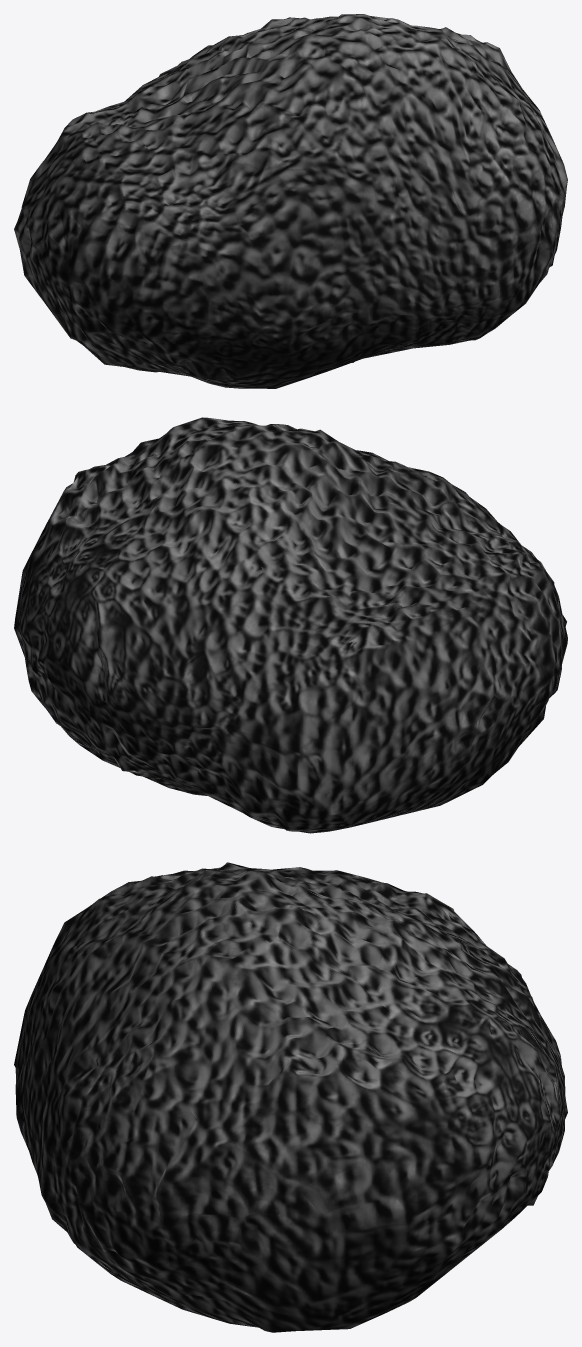
Rendered from SM_Coral_Porites.fbx.
The picture shows the model from 3 angles, top to bottom: view 1: azimuth 30°, elevation 25°; view 2: azimuth 150°, elevation 25°; view 3: azimuth 270°, elevation 25°; orthographic projection. The views are drawn at different scales.
Parts seen in each view (by area): view 1: SM_Coral_Porites_LOD0; view 2: SM_Coral_Porites_LOD0; view 3: SM_Coral_Porites_LOD0.
Boxes of the visible parts, <box> form: SM_Coral_Porites_LOD0: <box>14,14,567,388</box>; SM_Coral_Porites_LOD0: <box>14,417,567,833</box>; SM_Coral_Porites_LOD0: <box>14,862,567,1332</box>.
Bounding box in the file's own units: 146 × 122 × 94.45.
